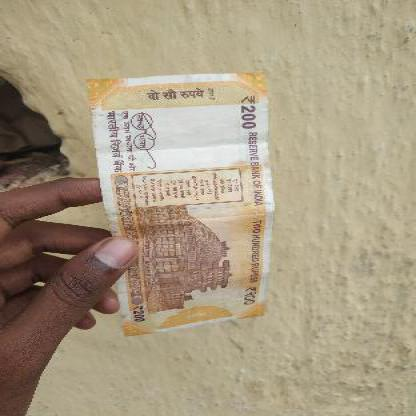New200Back: (84, 71, 271, 327)
